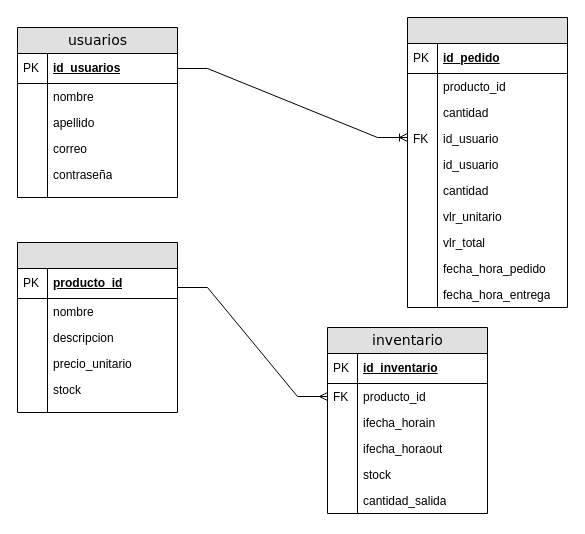
The diagram is 585 pixels wide and 534 high, and some of its shapes have lost their labels. The shapes that lost their labels are listed below. From the top down, each one's box as (x1, y1, x2, y2) in pixels, then its label:
(406, 16, 568, 308): pedidos
(16, 242, 178, 412): productos
